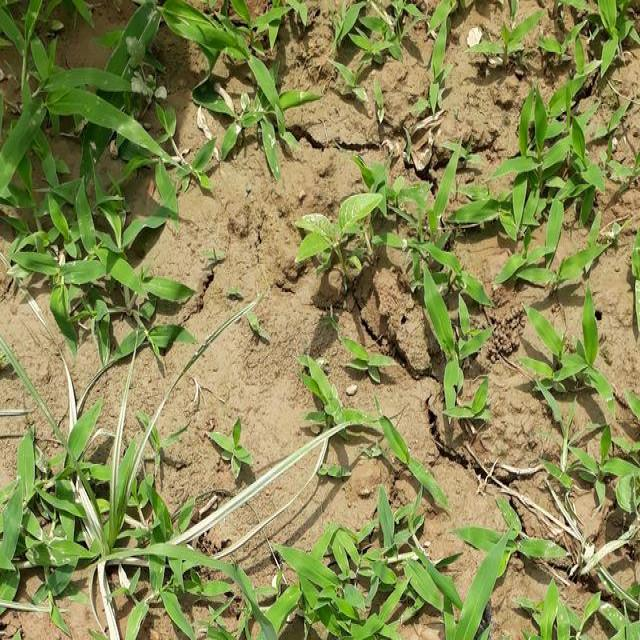weed: (3, 420, 640, 618), (328, 0, 623, 390), (0, 0, 210, 341)
